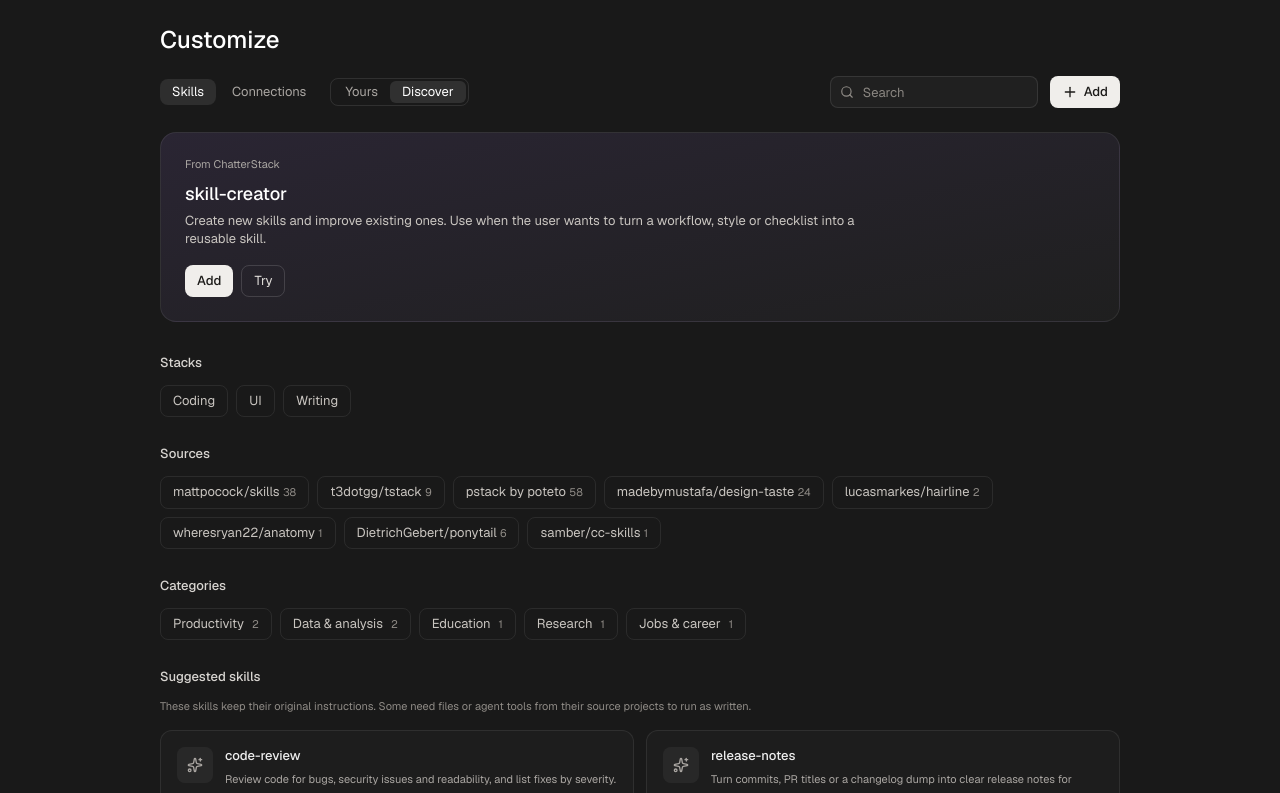
Test: Customize → Skills → Discover › filters the three stacks and adds a whole stack
Click the button "UI" at (256, 401), box x1=236 y1=385 x2=275 y2=418
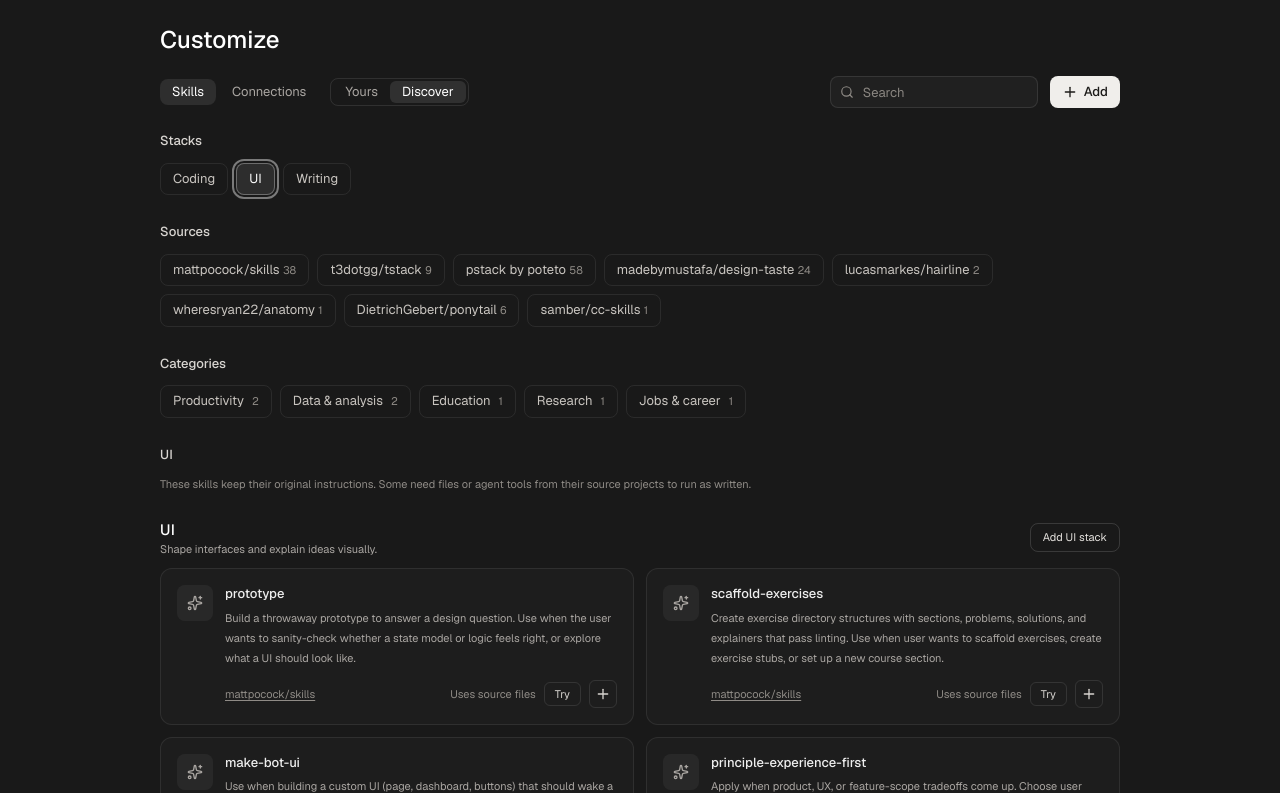
Click the button "lucasmarkes/hairline 2" at (912, 270), box x1=832 y1=254 x2=993 y2=286
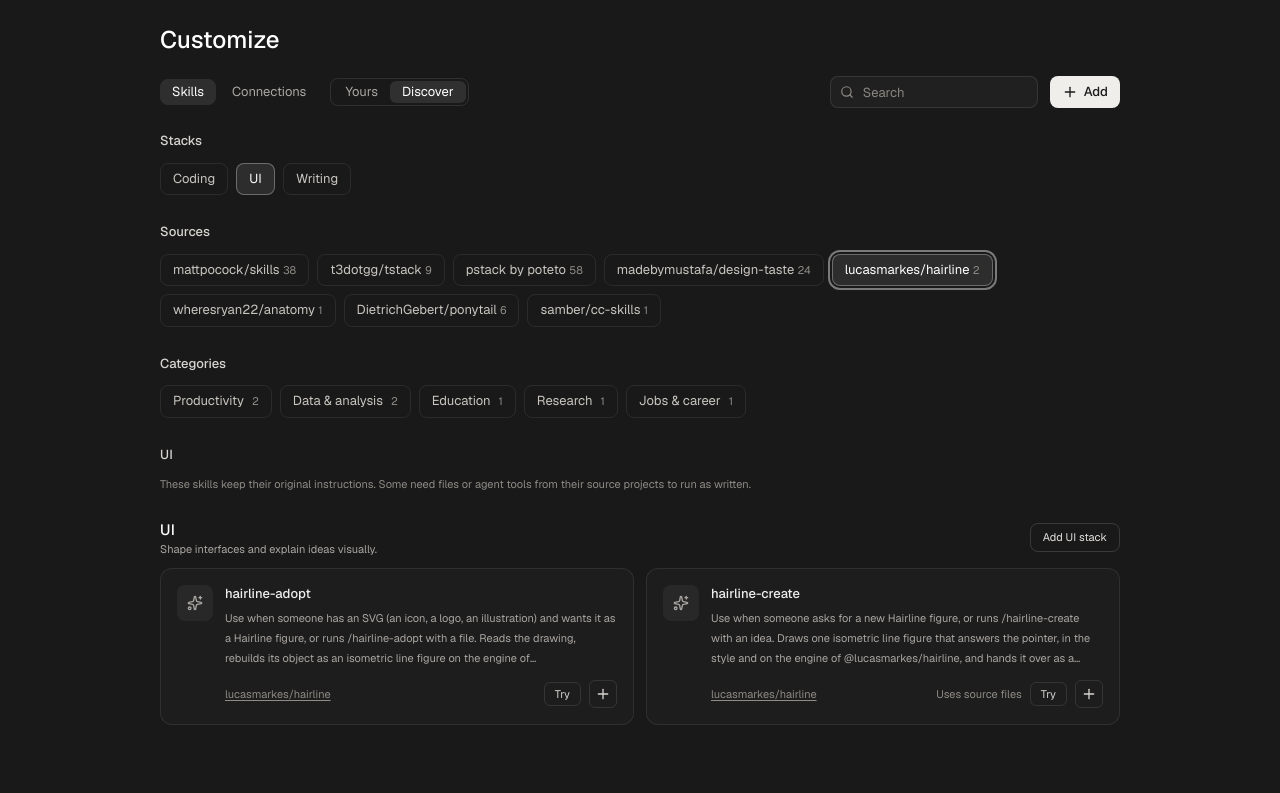
Expected: the 2nd heading "UI" is shown, x1=160 y1=520 x2=175 y2=539
Now the number of links "lucasmarkes/hairline" is 2, box x1=225 y1=687 x2=331 y2=701; x1=711 y1=687 x2=817 y2=701
Click the button "Add UI stack" at (1075, 538), box x1=1030 y1=523 x2=1120 y2=552
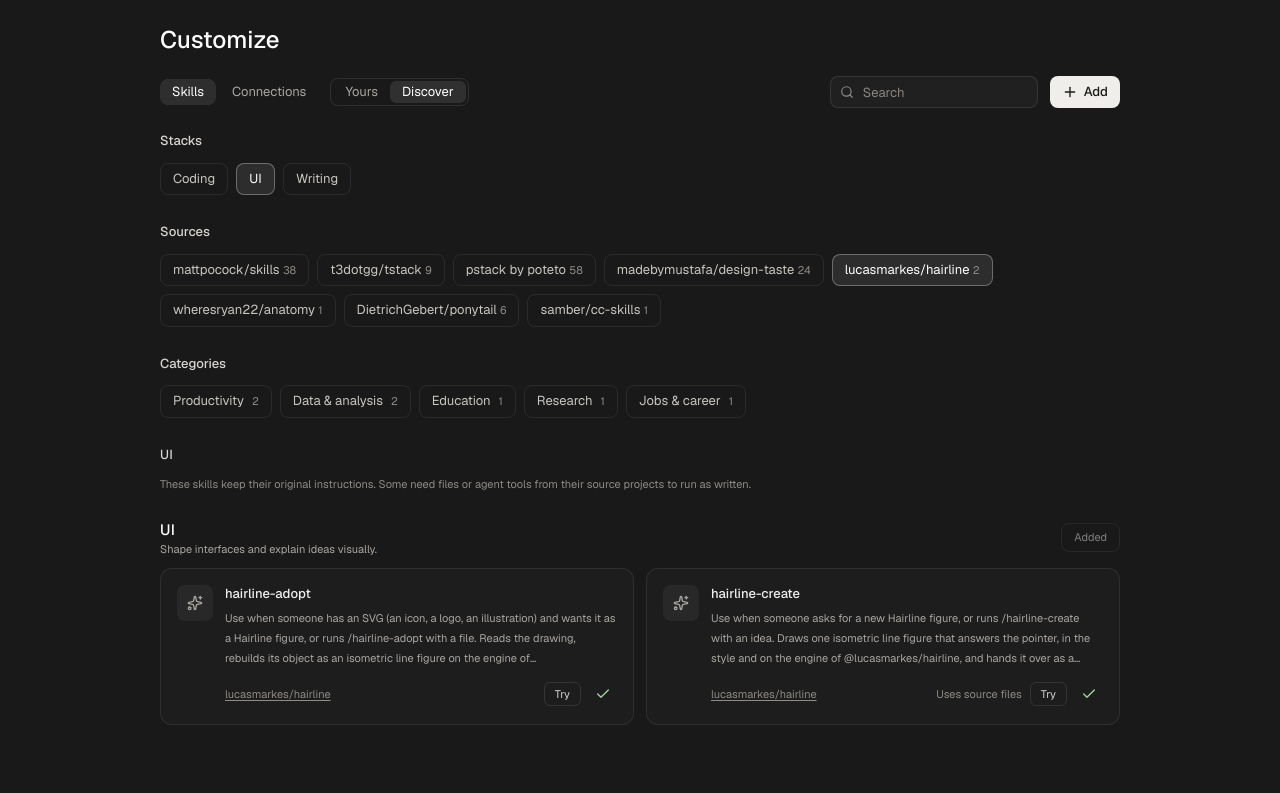
Now the button "Added" is disabled, box x1=1061 y1=523 x2=1120 y2=552
